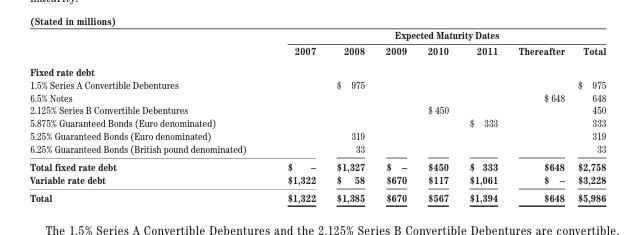table: (29, 28, 605, 203)
table column: (29, 28, 266, 203), (507, 28, 570, 203), (266, 28, 325, 203), (325, 28, 374, 203), (458, 28, 507, 203), (374, 28, 416, 203), (416, 28, 458, 203), (570, 28, 605, 203)
table column header: (29, 28, 605, 60)
table projected row header: (29, 60, 605, 77)
table row: (29, 42, 605, 60), (29, 60, 605, 77), (29, 157, 605, 173), (29, 142, 605, 157), (29, 173, 605, 188), (29, 188, 605, 203), (29, 28, 605, 42), (29, 77, 605, 90), (29, 90, 605, 103), (29, 103, 605, 116), (29, 116, 605, 129), (29, 129, 605, 142)
table spanning cell: (266, 28, 605, 42)
